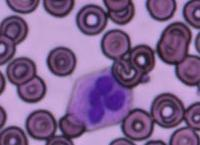N: (68, 68, 132, 130)
